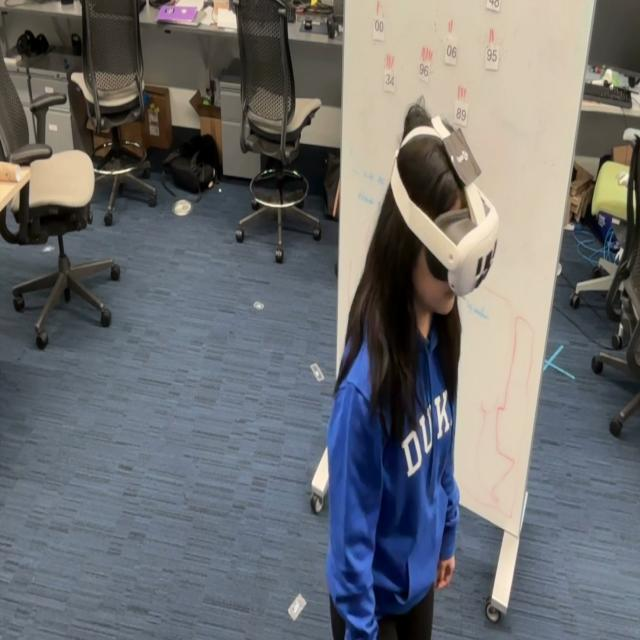Headset: (390, 114, 500, 297)
UnityLogo: (441, 123, 482, 188)
